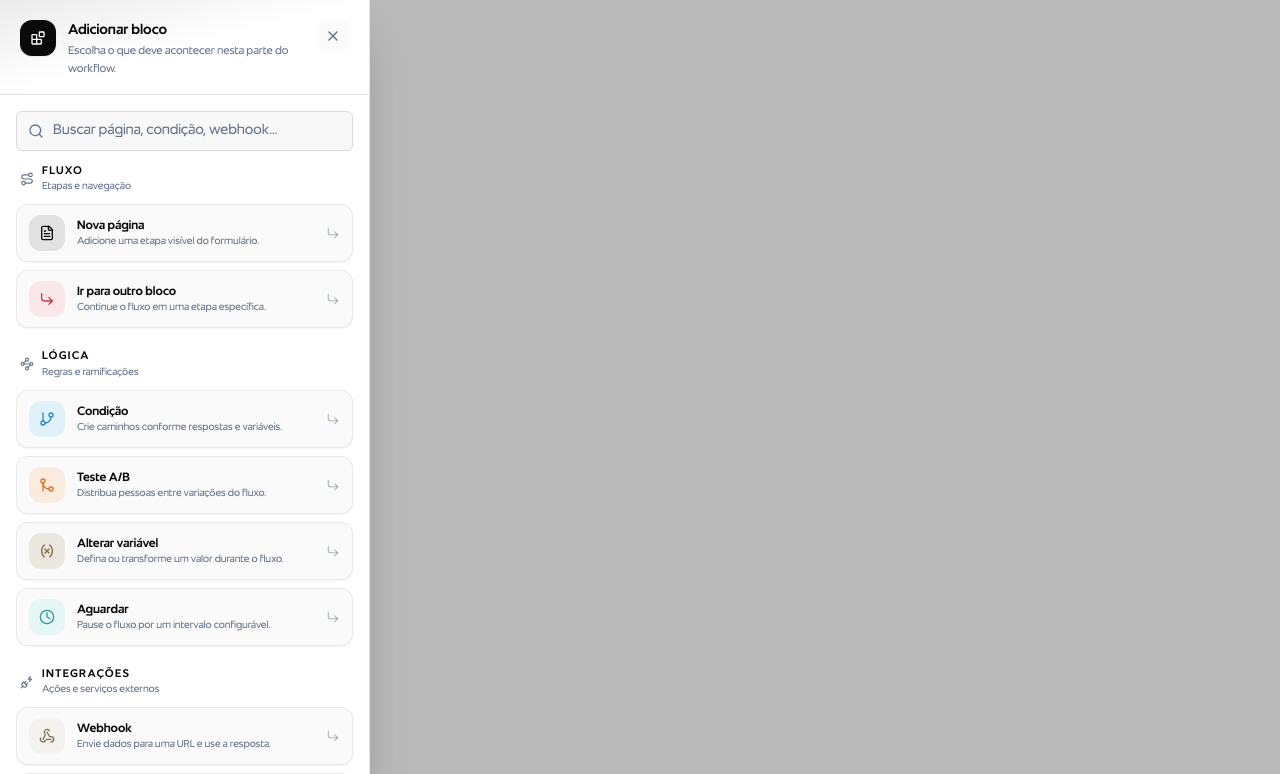
Test case: builder UX controls › searches workflow blocks by purpose, not only by title
Type "meta" into the field named "buscar bloco". click: x=184, y=131
box: [16,111,353,151]
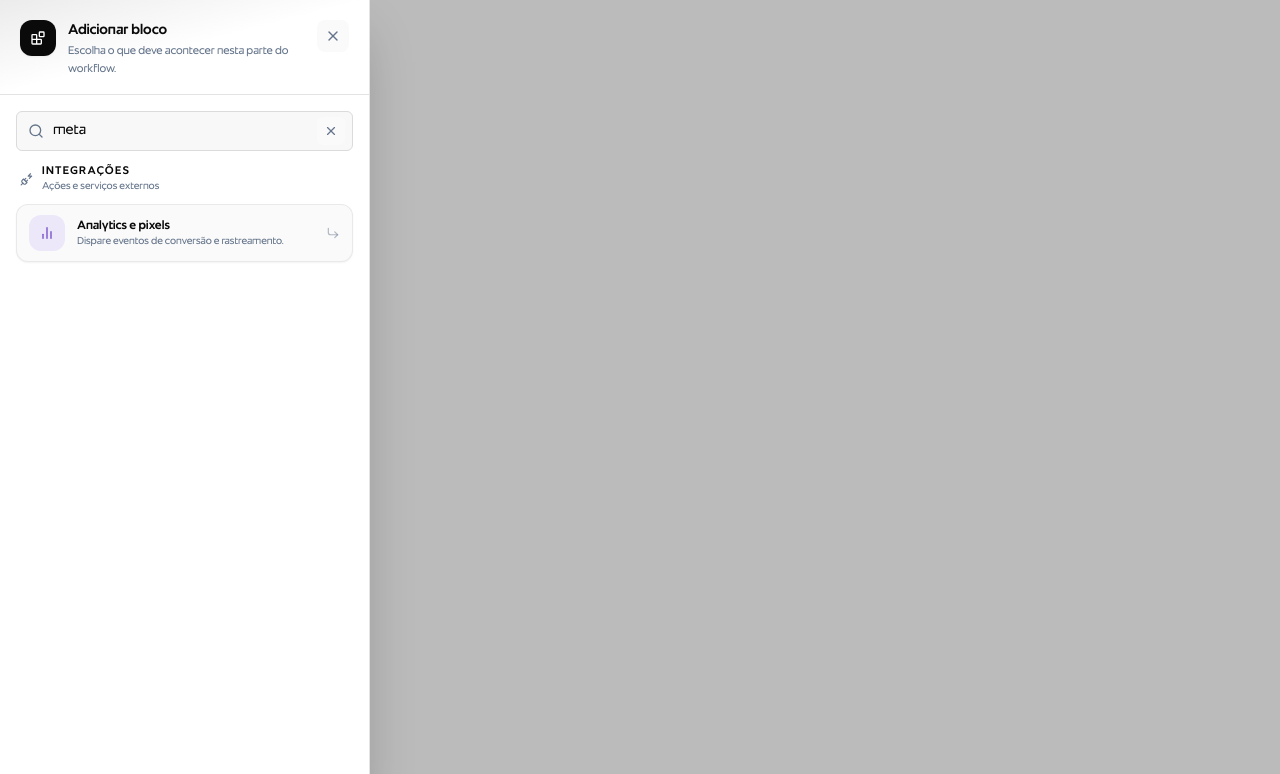
Expected: the button "Analytics e pixels" is shown, [16,204,353,262]
Expected: the button "Nova página" is gone
